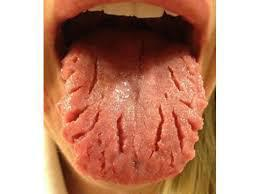baitaishe: (61, 52, 207, 185)
liewenshe: (62, 104, 206, 157), (164, 64, 185, 93), (86, 57, 100, 97)
